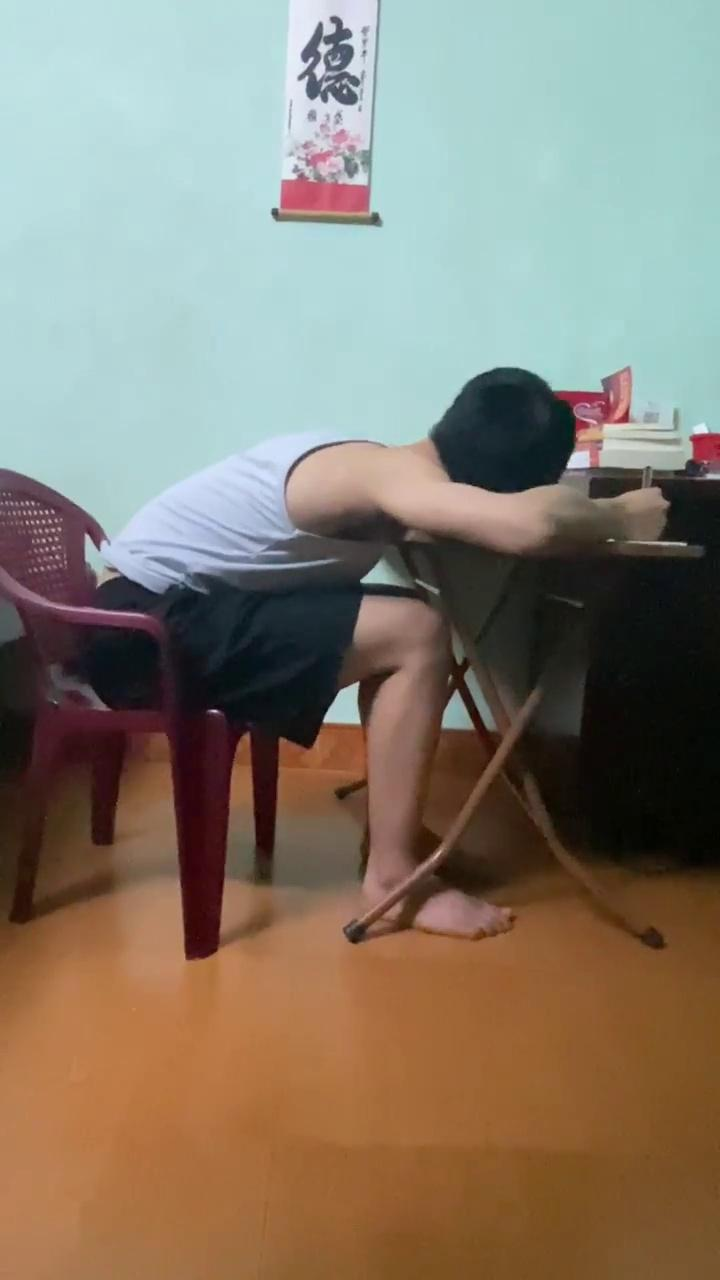BadPosture: (97, 368, 667, 905)
